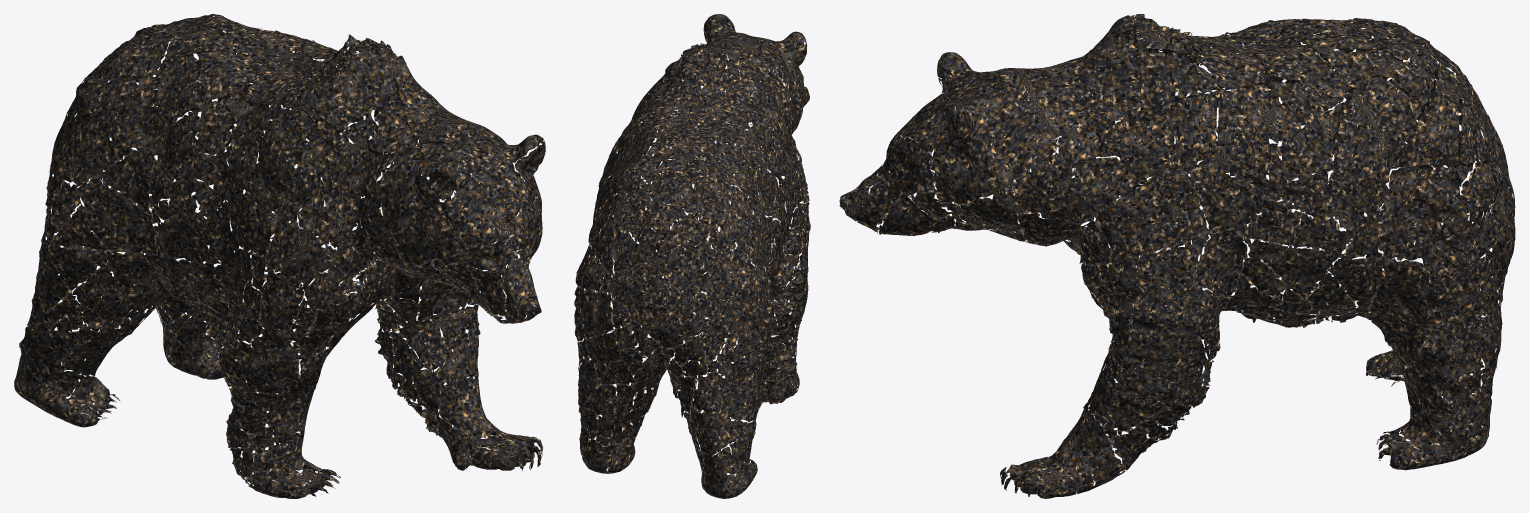
File: bear.glb
3 views of the same model, side by side, from view 1: azimuth 30°, elevation 25°; view 2: azimuth 150°, elevation 25°; view 3: azimuth 270°, elevation 25° (orthographic). The views are drawn at different scales.
Size of the model in its own units: 1.08 by 1.36 by 1.89.
1 material, 1 textured.
